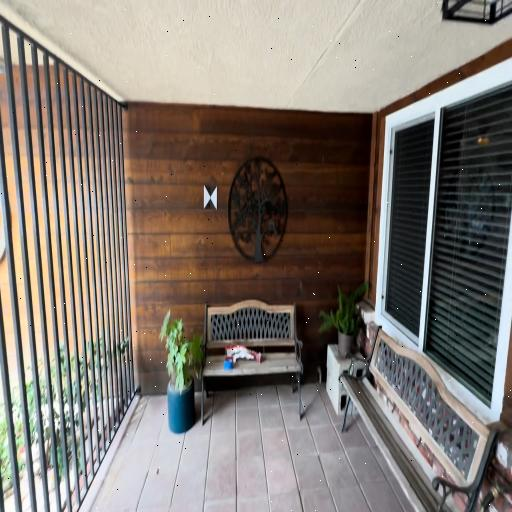target: (204, 186, 217, 210)
